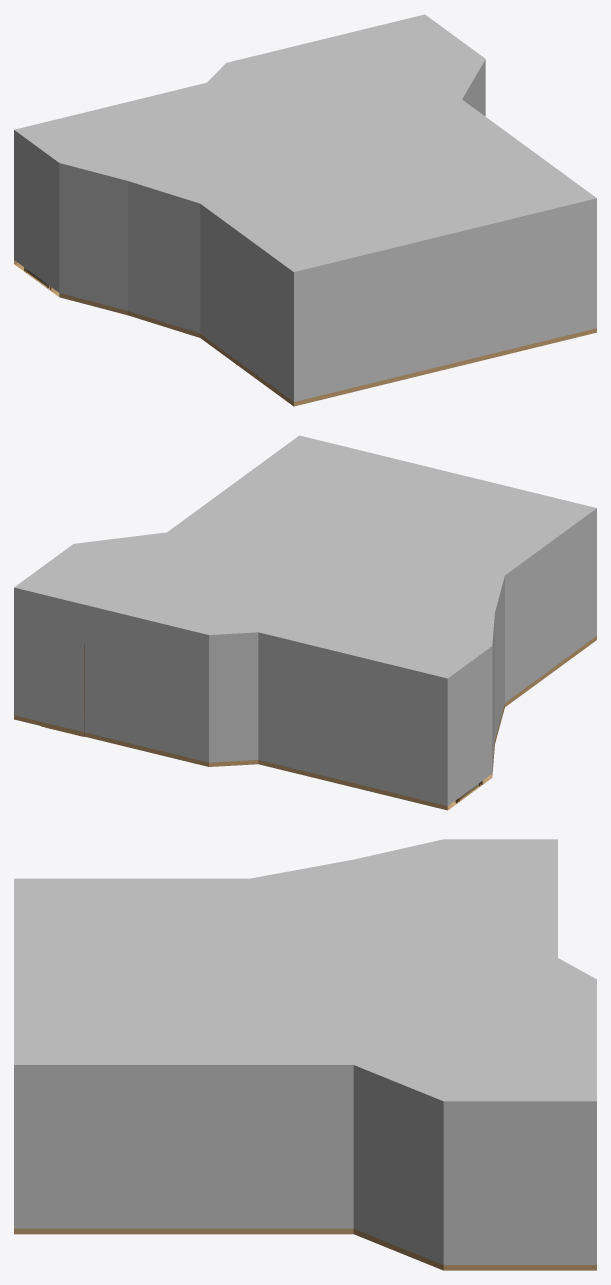
File: Waende.fbx
3 renders of one model, top to bottom at view 1: azimuth 30°, elevation 25°; view 2: azimuth 150°, elevation 25°; view 3: azimuth 270°, elevation 25°, orthographic. The views are drawn at different scales.
Parts seen in each view (by area): view 1: Waende; view 2: Waende; view 3: Waende.
Part boxes in pixels (x1,y1,x2,y2): Waende: [14, 14, 596, 406]; Waende: [14, 435, 596, 810]; Waende: [14, 839, 596, 1270].
Size of the model in its own units: 2319 by 701 by 2179.
